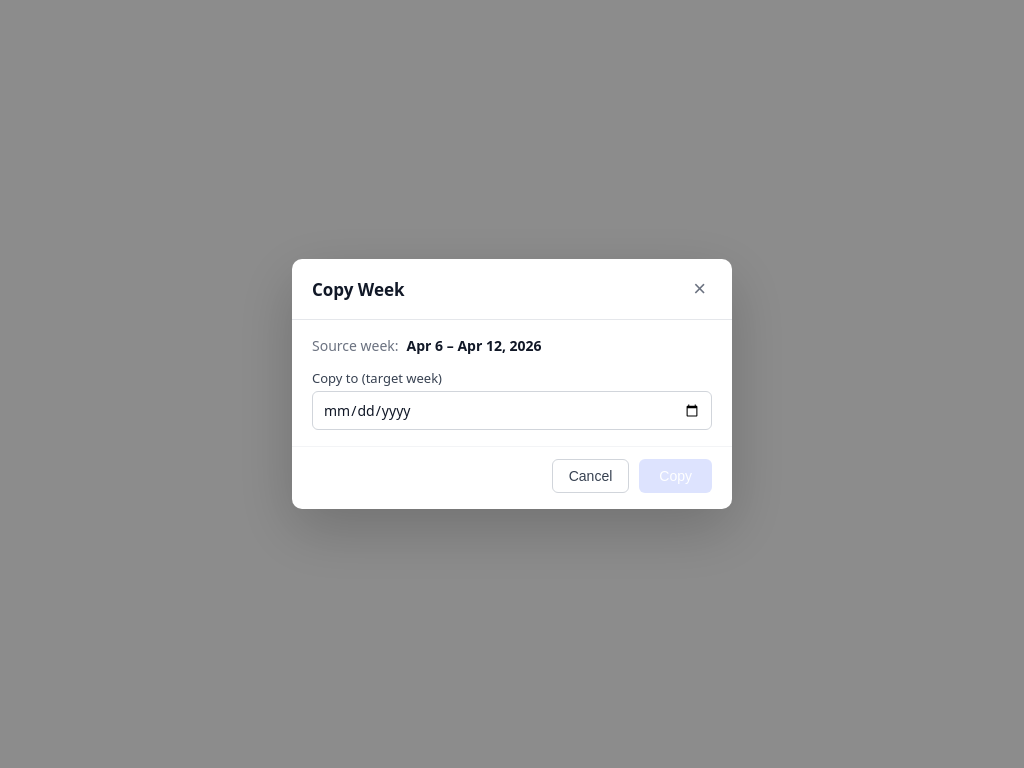
CopyWeekModal — Copy Week › displays an error when target week already has shifts (409 conflict)
Type "2026-04-13" into the date field labelled "Copy to (target week)".
click(512, 410); type("2026-04-13")  # box [312, 391, 712, 430]
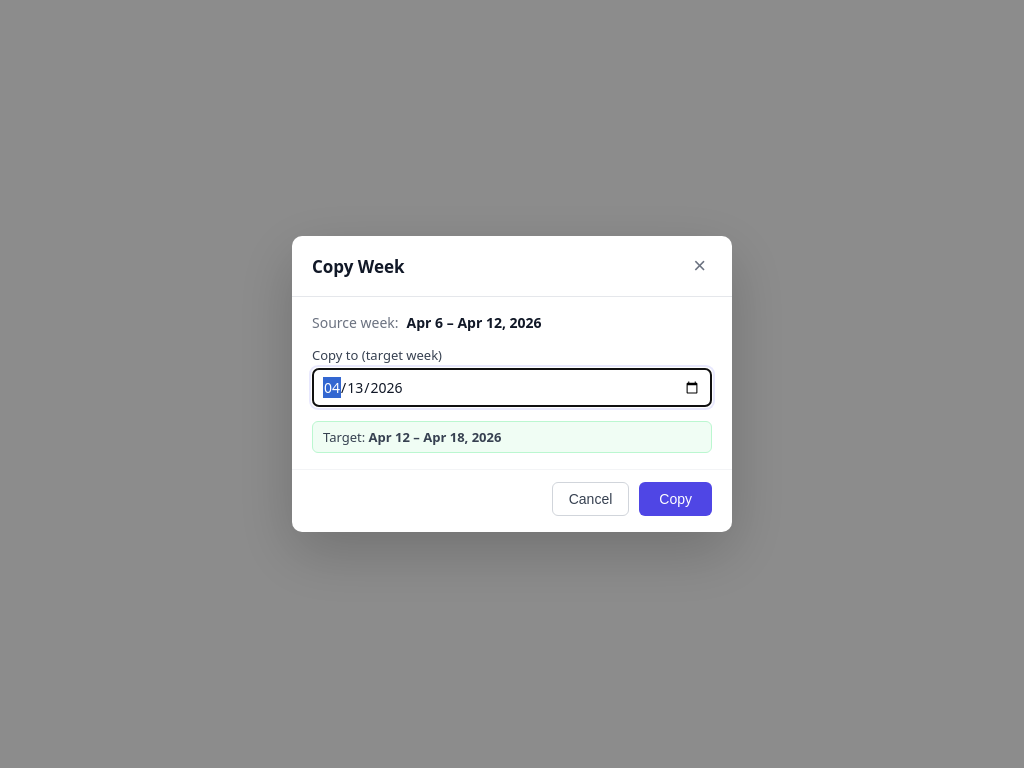
Click the button "Copy".
click(676, 499)  # box [639, 482, 712, 516]
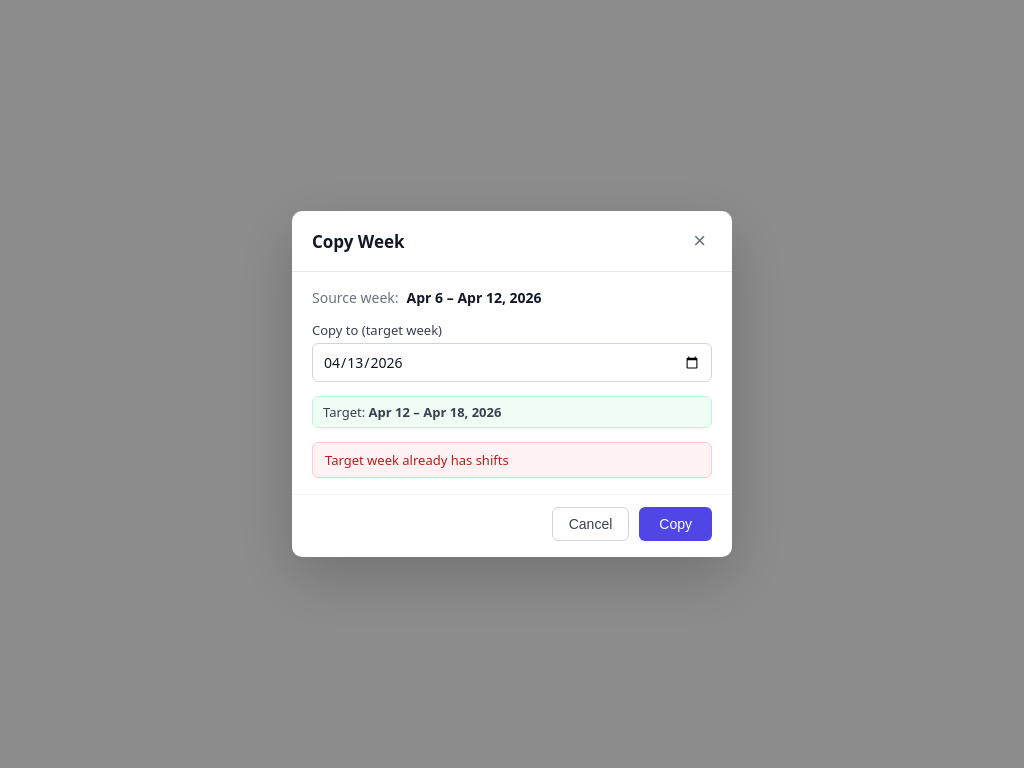
Expected: the message reads "Target week already has shifts", [325, 451, 509, 469]
